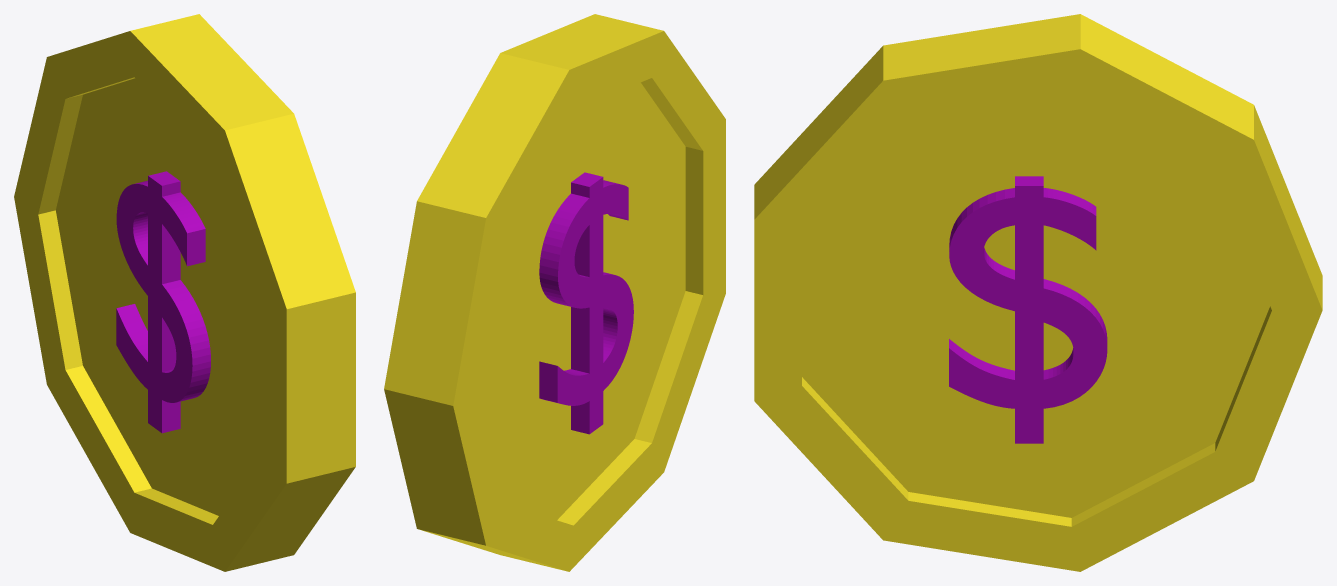
Rendered from coin.fbx.
3 views of the same model, side by side, from view 1: azimuth 30°, elevation 25°; view 2: azimuth 150°, elevation 25°; view 3: azimuth 270°, elevation 25° (orthographic). The views are drawn at different scales.
Visible parts, largest first — view 1: Cylinder; view 2: Cylinder; view 3: Cylinder.
Part boxes in pixels (left/top/right/bottom): Cylinder: left=14, top=14, right=355, bottom=571; Cylinder: left=384, top=14, right=725, bottom=571; Cylinder: left=754, top=14, right=1322, bottom=571.
Size of the model in its own units: 0.293 by 1.97 by 1.94.
